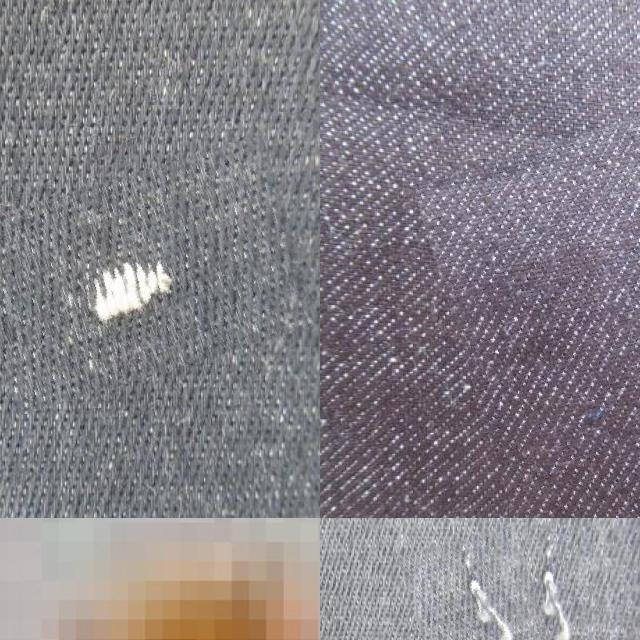Thread_other: (440, 99, 640, 518), (0, 155, 309, 395), (440, 525, 640, 640)
